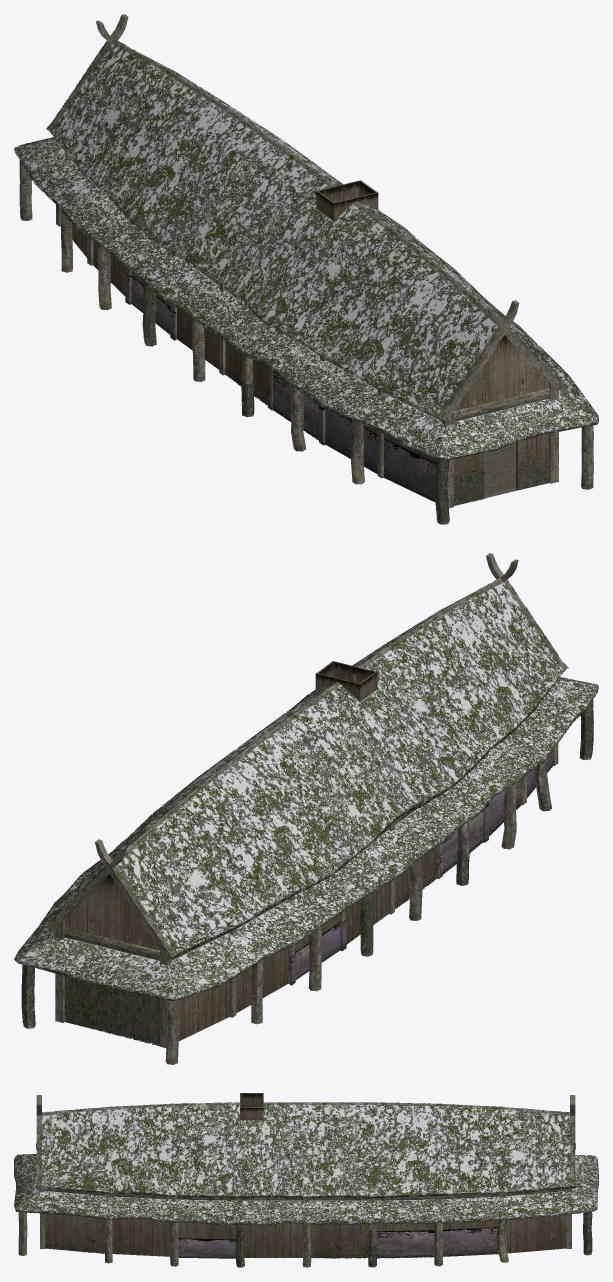
Rendered from Longhouse_LOD01.fbx.
3 views of the same model, one above another, from view 1: azimuth 30°, elevation 25°; view 2: azimuth 150°, elevation 25°; view 3: azimuth 270°, elevation 25° (orthographic). The views are drawn at different scales.
Parts seen in each view (by area): view 1: Mesh Object_ncl1_1, Mesh Object; view 2: Mesh Object_ncl1_1, Mesh Object; view 3: Mesh Object_ncl1_1, Mesh Object.
Boxes of the visible parts, bbox=[...] form: Mesh Object_ncl1_1: bbox=[14, 39, 598, 522]; Mesh Object: bbox=[15, 14, 597, 524]; Mesh Object_ncl1_1: bbox=[14, 578, 598, 1046]; Mesh Object: bbox=[16, 553, 597, 1064]; Mesh Object_ncl1_1: bbox=[14, 1102, 598, 1267]; Mesh Object: bbox=[14, 1093, 598, 1267].
Bounding box in the file's own units: 7.11 × 5.48 × 22.16.
